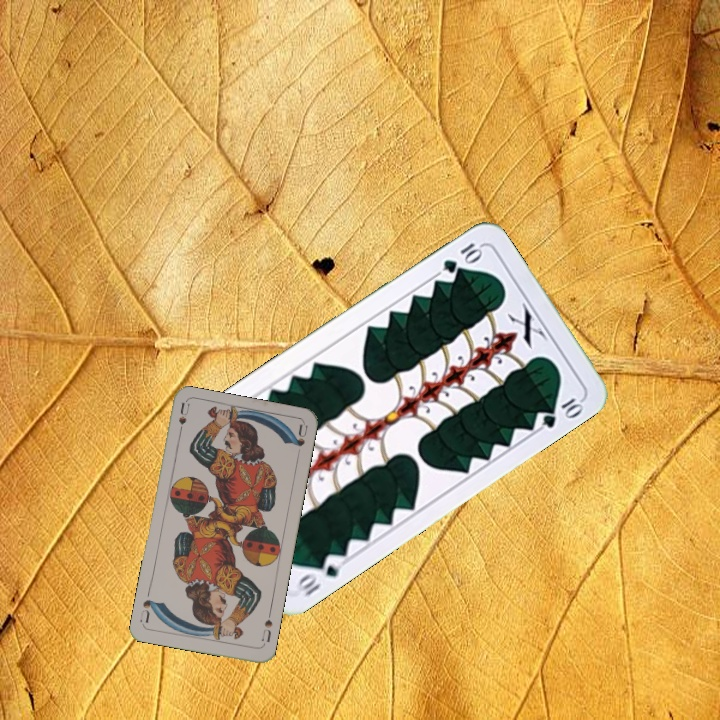G10: (293, 549, 348, 600), (439, 238, 487, 276)
SU: (174, 400, 192, 441), (258, 608, 275, 645)
